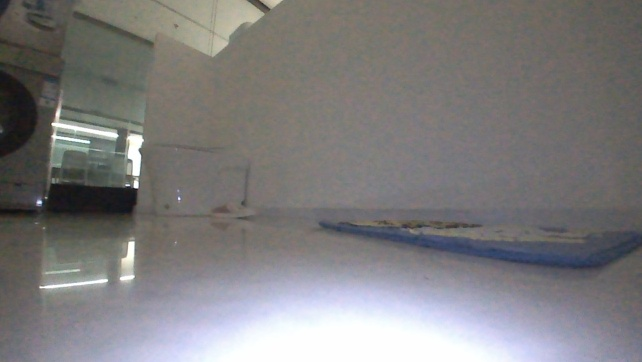blanket: (317, 216, 641, 270)
shoe: (207, 198, 261, 220)
toilet: (137, 140, 250, 219)
washing_machine: (0, 40, 66, 212)
